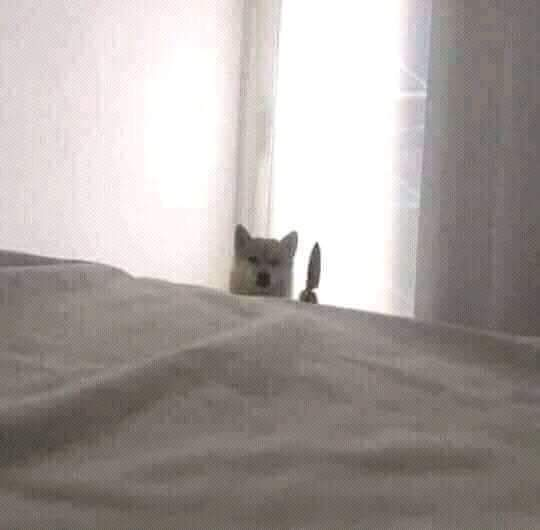dog: (226, 221, 300, 298)
